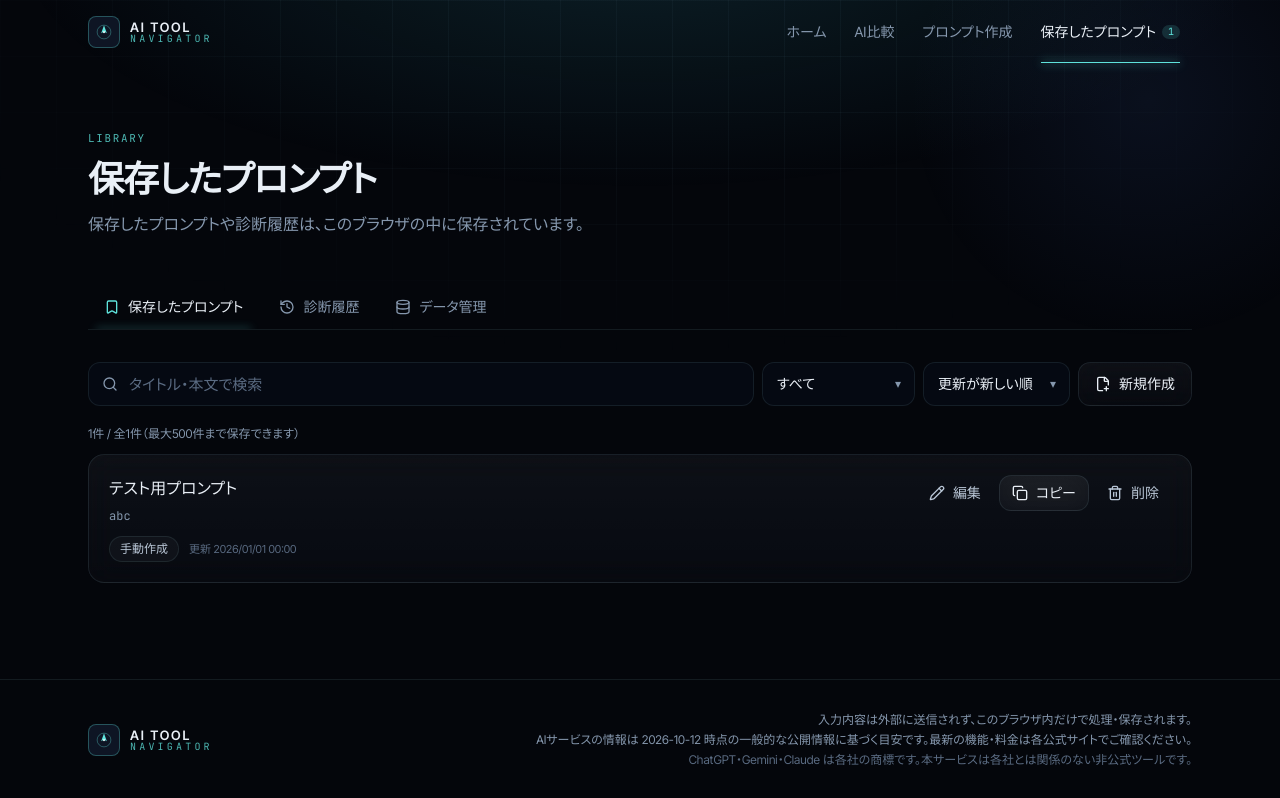
Test: 画面の動作 › 保存一覧から削除できる（2段階確認）
Click the button "削除" at point(1133, 494), box [1095, 476, 1171, 512]
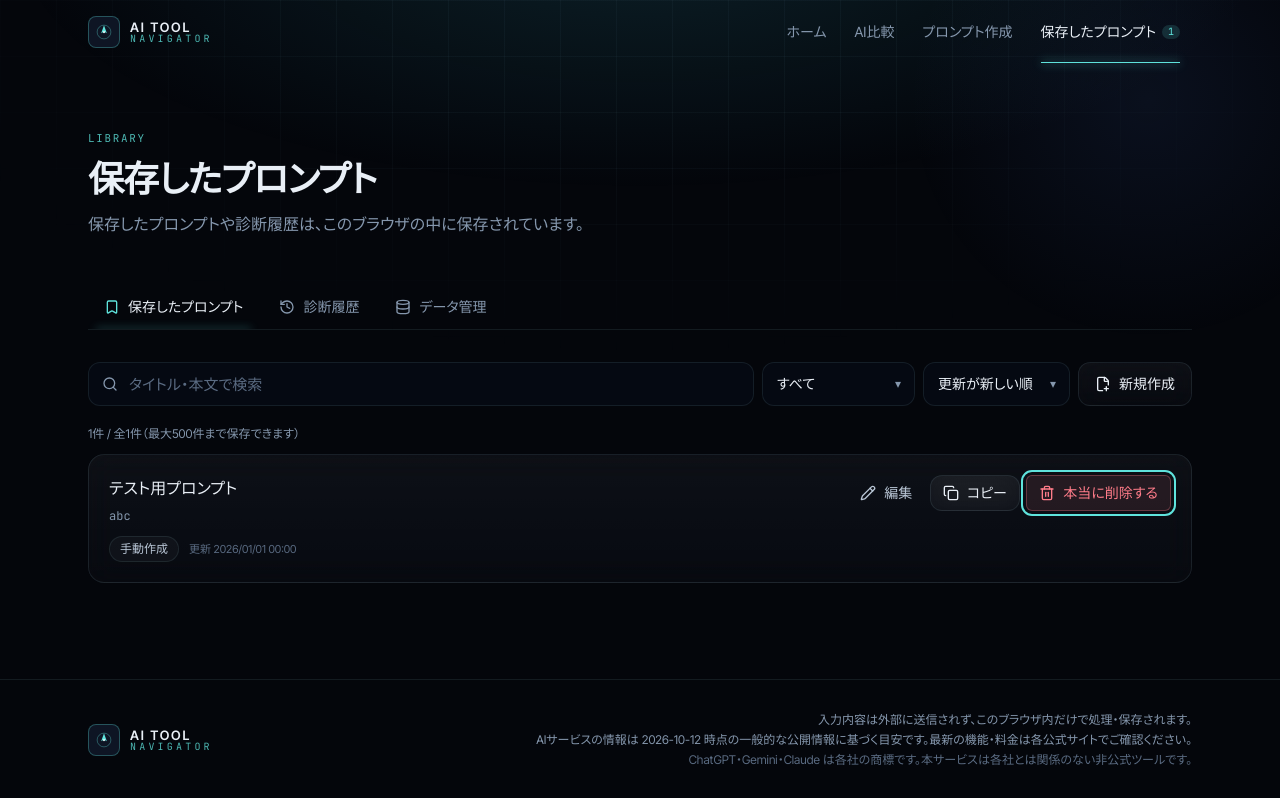
Click the button "本当に削除する" at point(1099, 494), box [1026, 476, 1171, 512]
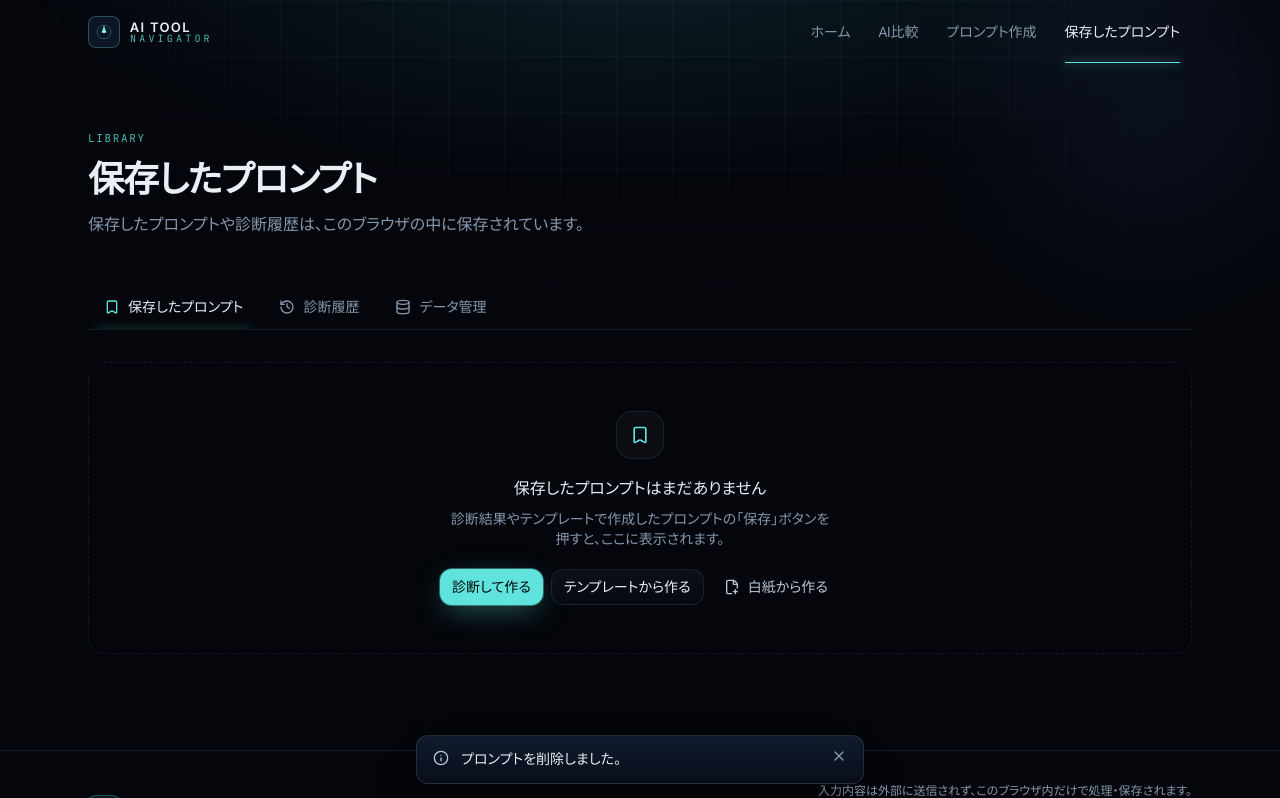
Expected: the text "保存したプロンプトはまだありません" is shown, [514, 476, 766, 503]
